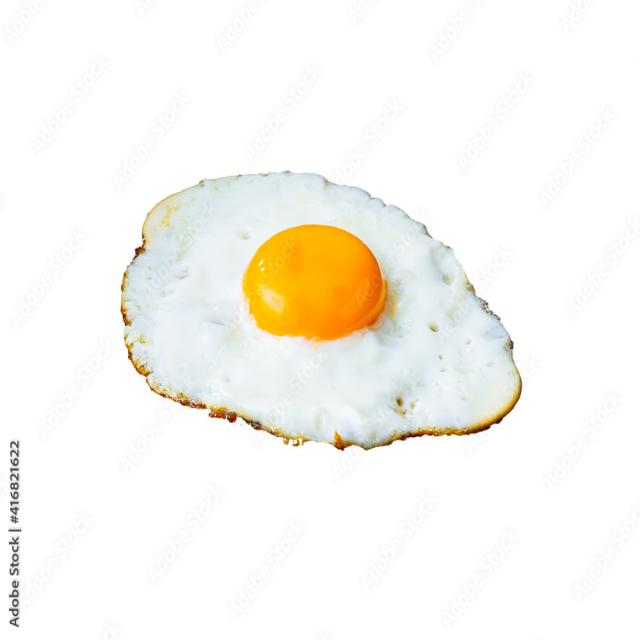Egg: (121, 172, 521, 449)
